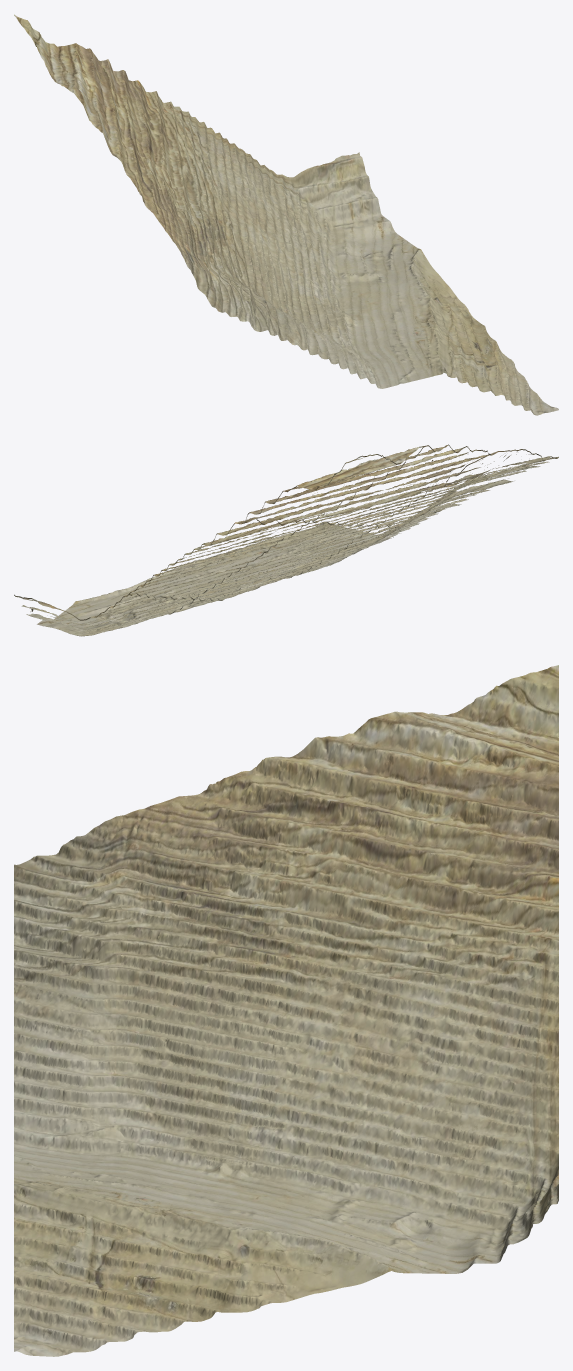
3 views of the same model, one above another, from view 1: azimuth 30°, elevation 25°; view 2: azimuth 150°, elevation 25°; view 3: azimuth 270°, elevation 25° (orthographic). The views are drawn at different scales.
Parts seen in each view (by area): view 1: l2-1-2; view 2: l2-1-2; view 3: l2-1-2.
Part boxes in pixels (x1,y1,x2,y2): l2-1-2: (14,14,558,415); l2-1-2: (14,444,558,636); l2-1-2: (14,665,558,1356).
Bounding box in the file's own units: 768 × 717 × 768.
1 material, 1 textured.
